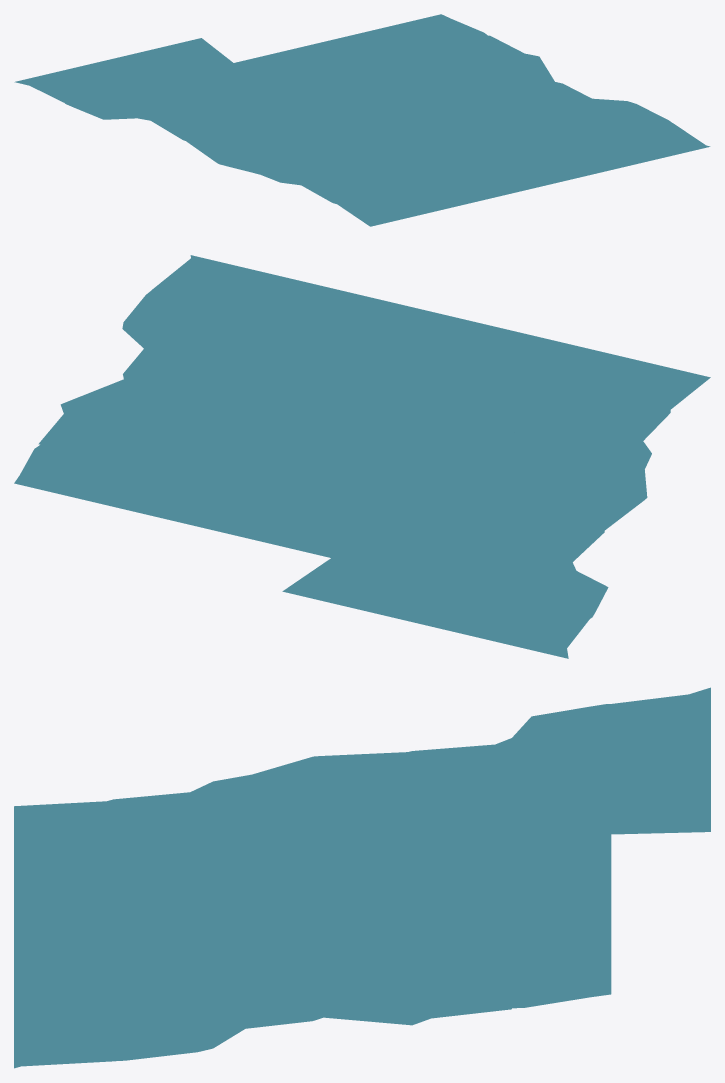
The picture shows the model from 3 angles, top to bottom: view 1: azimuth 30°, elevation 25°; view 2: azimuth 150°, elevation 25°; view 3: azimuth 270°, elevation 25°; orthographic projection. The views are drawn at different scales.
Parts seen in each view (by area): view 1: prototype; view 2: prototype; view 3: prototype.
Boxes of the visible parts, x1=… form: prototype: x1=14, y1=14, x2=710, y2=226; prototype: x1=14, y1=255, x2=710, y2=658; prototype: x1=14, y1=687, x2=710, y2=1068.
Bounding box in the file's own units: 16.98 × 0.5263 × 14.
